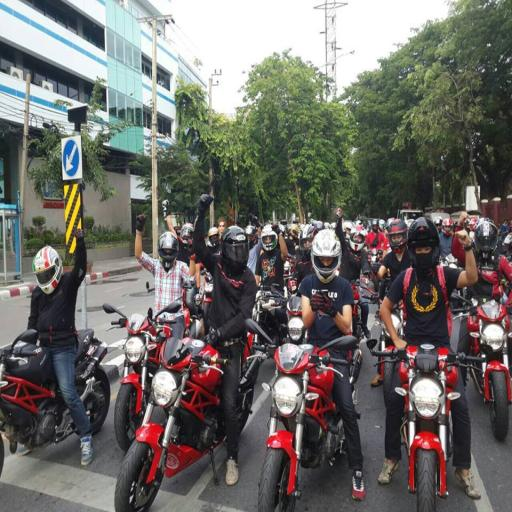overloading: (6, 191, 508, 507)
